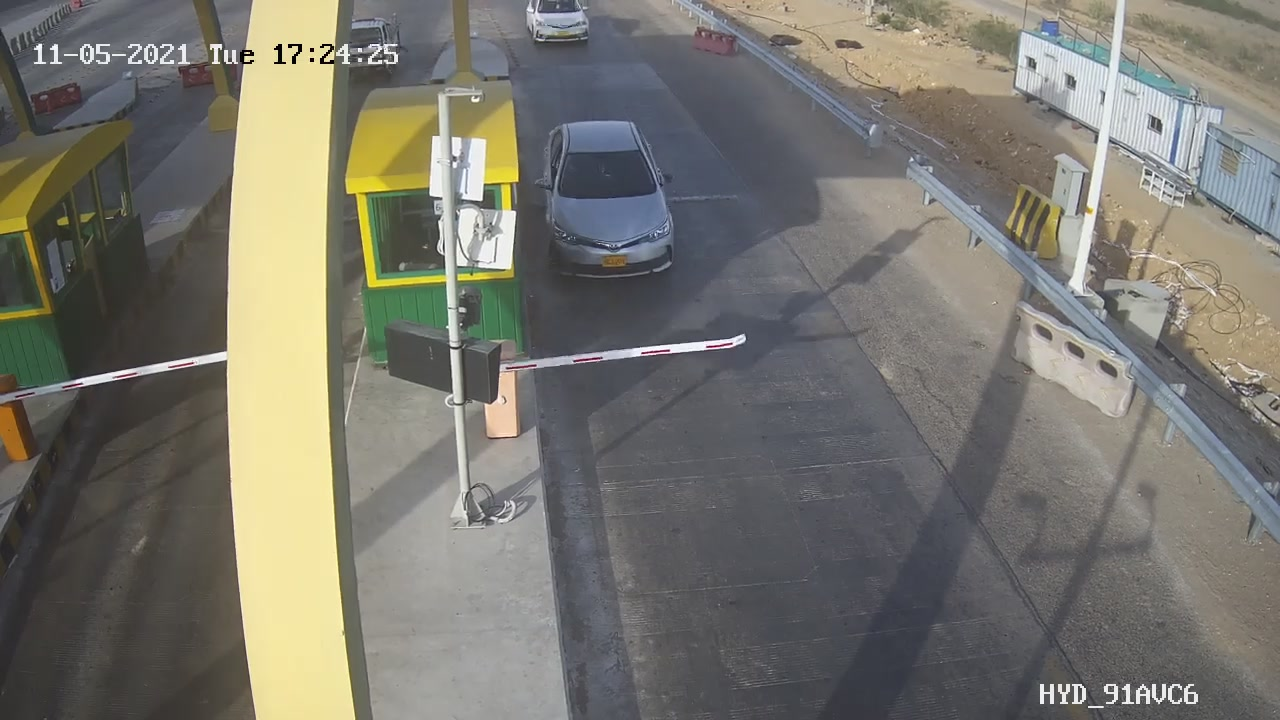F1: (520, 107, 703, 305)
